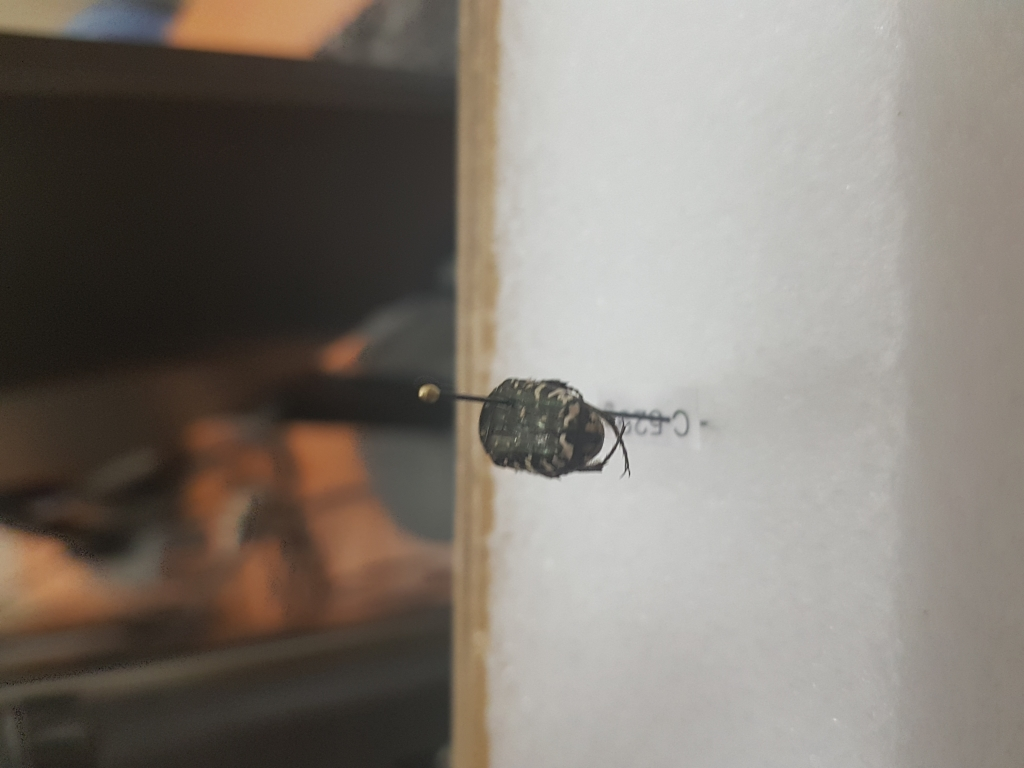Oxythyrea_funesta: (474, 374, 634, 483)
